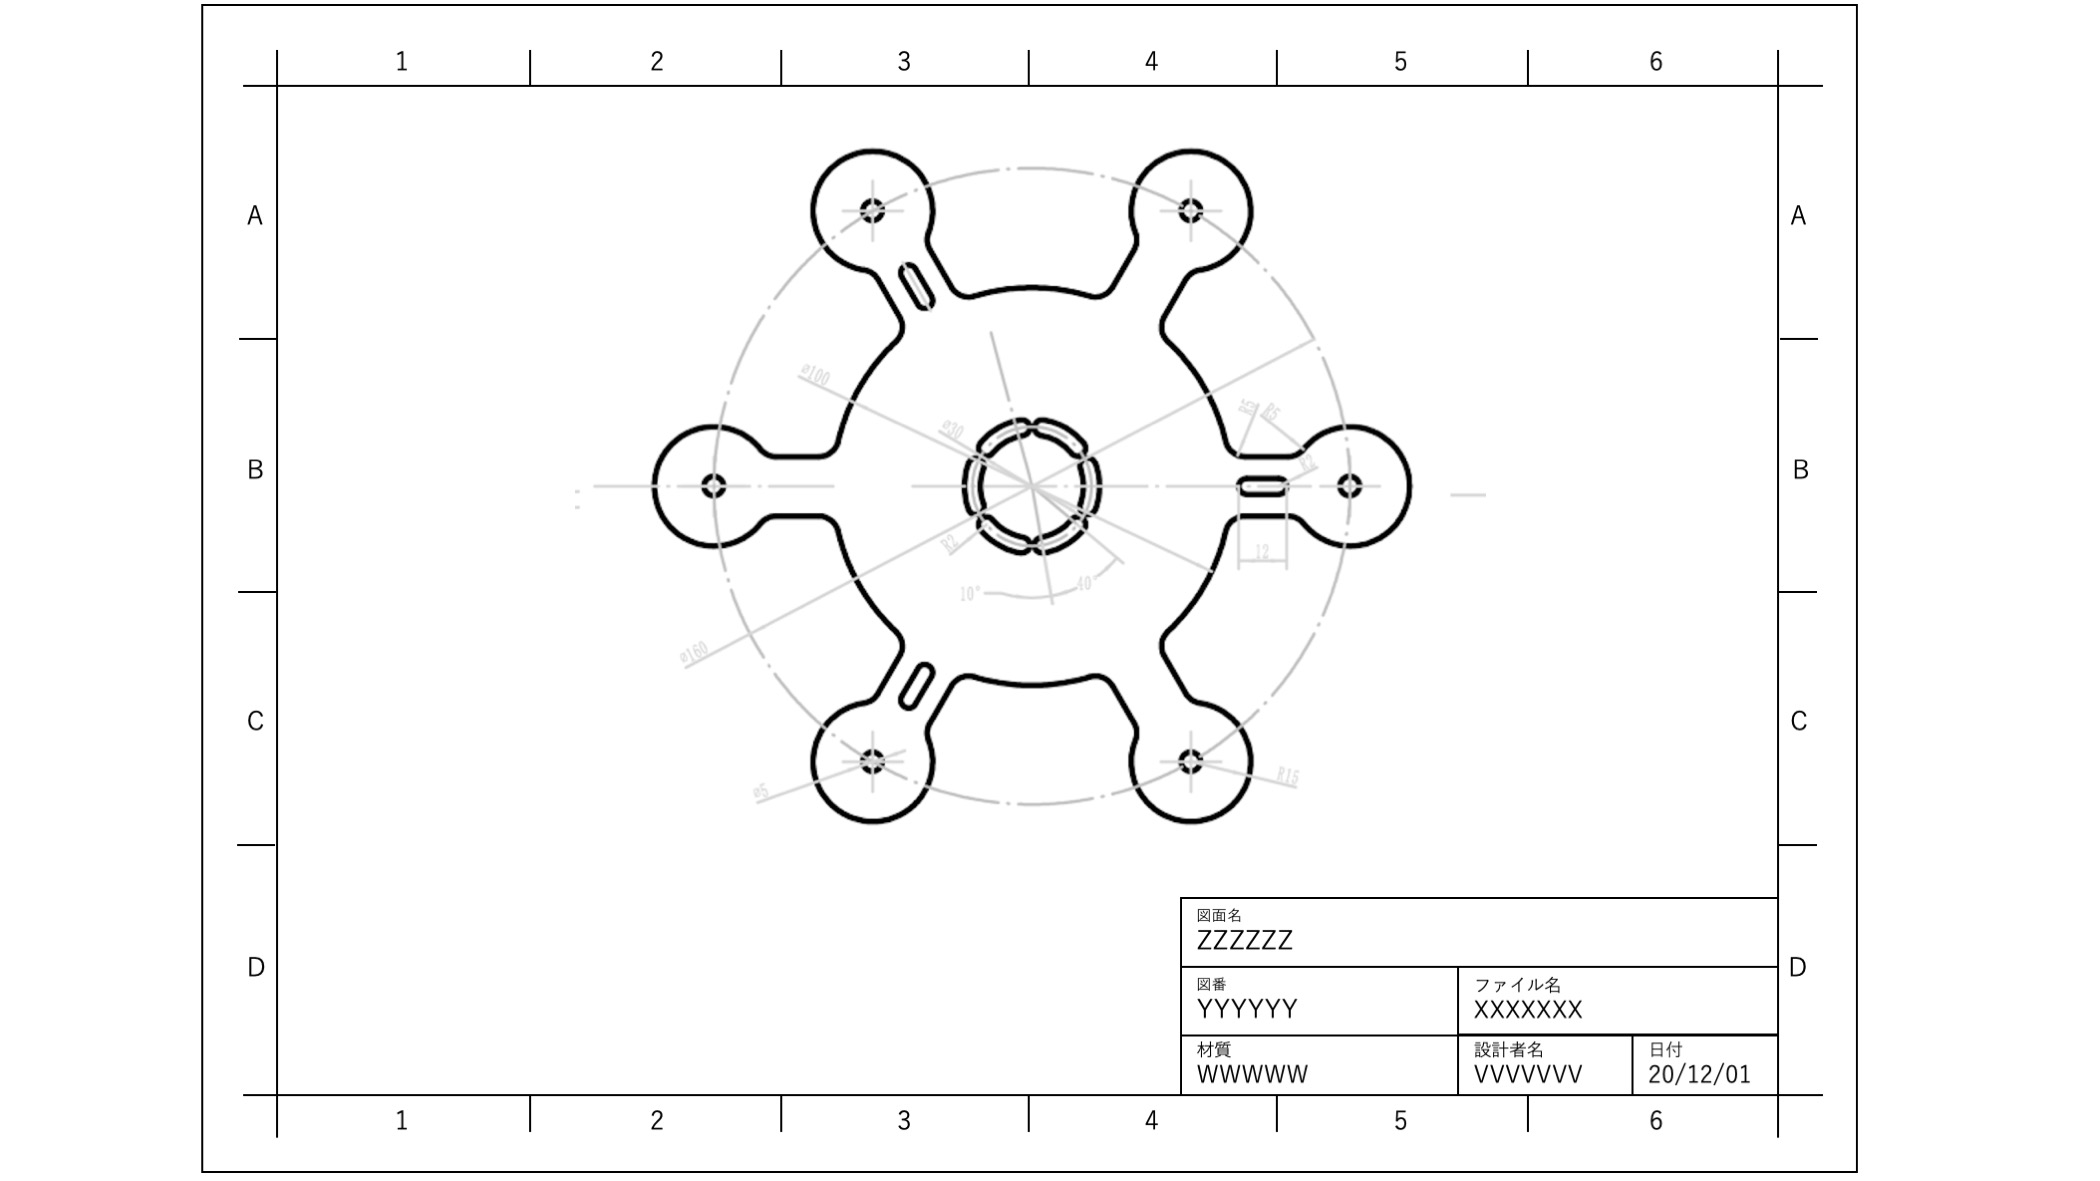circle: (852, 192, 901, 248), (1331, 461, 1379, 508), (1162, 740, 1207, 777), (695, 464, 733, 508), (850, 743, 893, 780), (1170, 187, 1207, 226)
round_rectangle: (936, 448, 992, 515), (1054, 456, 1109, 519), (971, 503, 1031, 558), (1034, 402, 1092, 456), (972, 412, 1036, 457), (1212, 461, 1297, 495), (1034, 513, 1098, 557), (891, 257, 945, 306), (901, 647, 935, 711)
